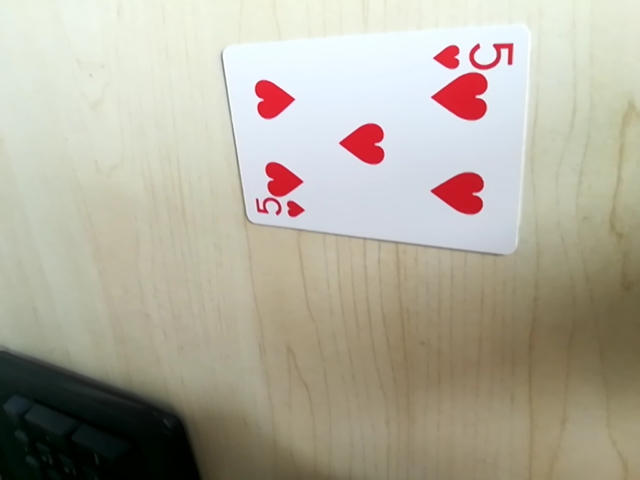hx 5: (432, 33, 515, 74), (251, 195, 309, 225)
